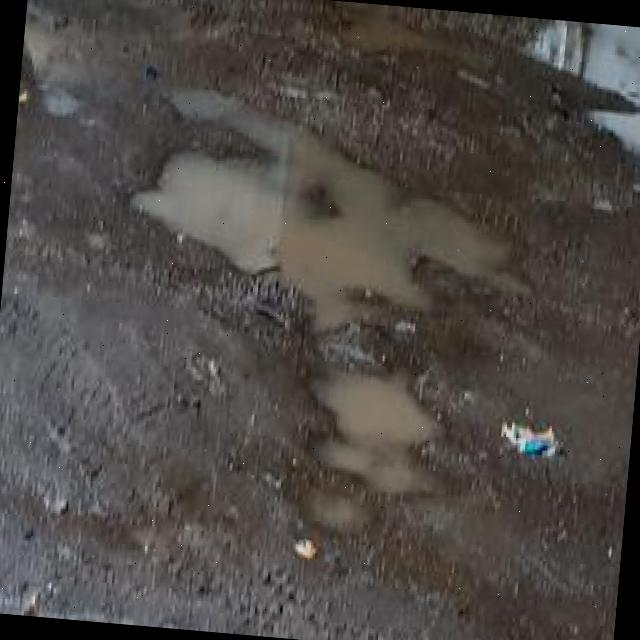stagnation: (128, 108, 484, 318), (306, 359, 462, 488)
